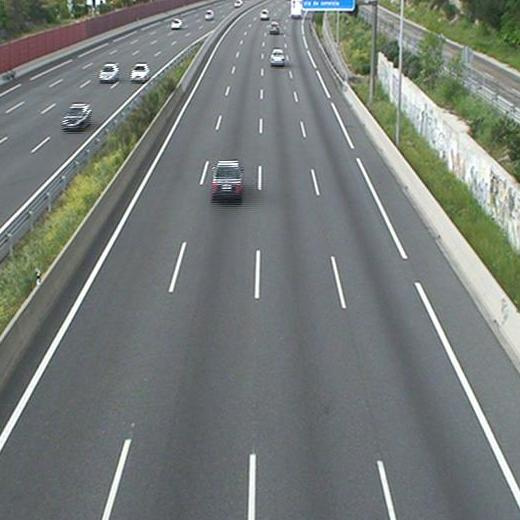car: (211, 161, 242, 192), (270, 49, 284, 65), (269, 21, 280, 34), (260, 9, 269, 19)
small-truck: (290, 1, 303, 19)
